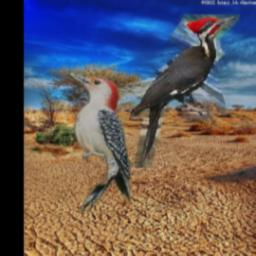Woodpecker: (130, 14, 240, 168), (64, 70, 131, 213)
